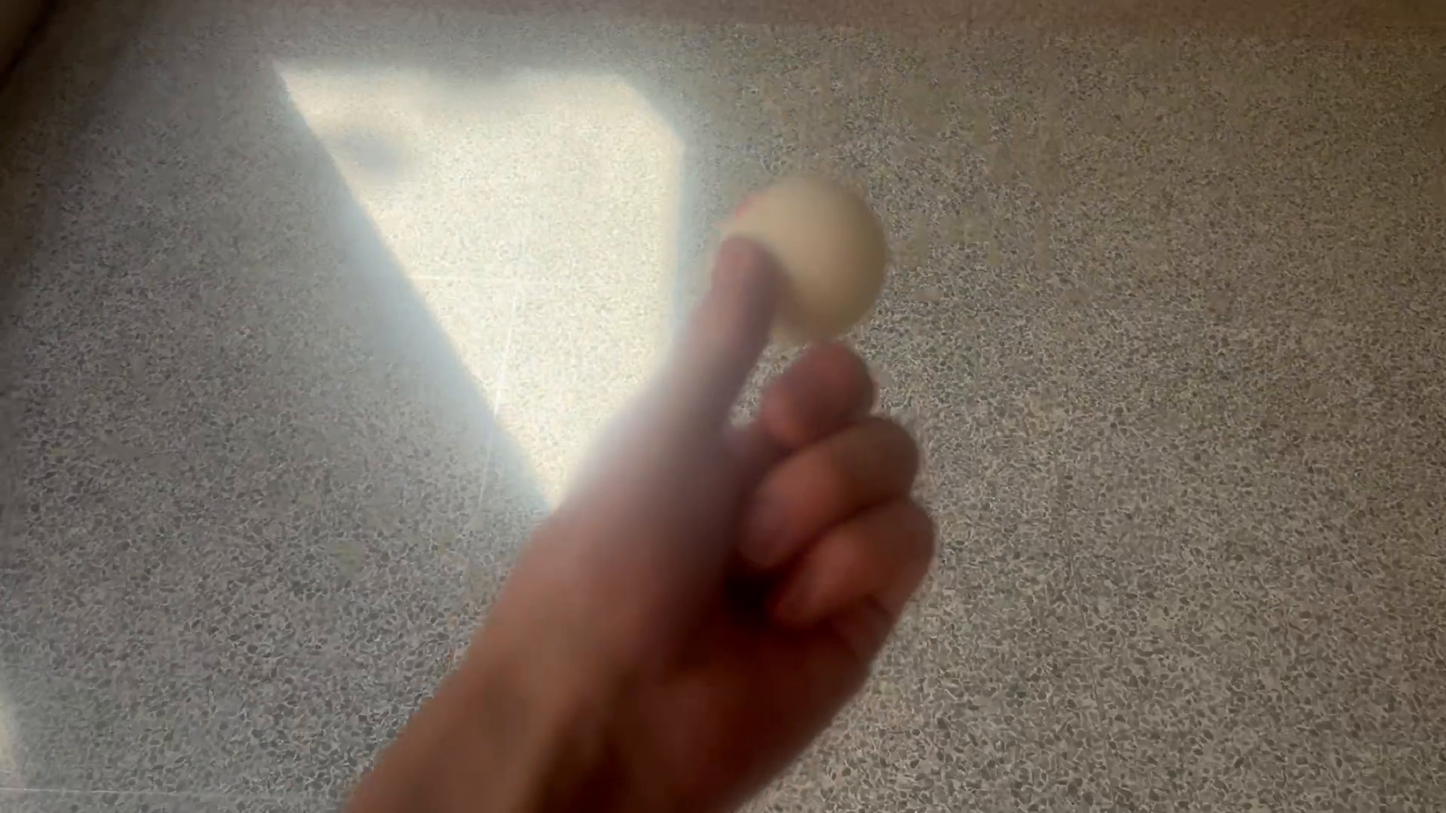Ball: (717, 170, 874, 347)
